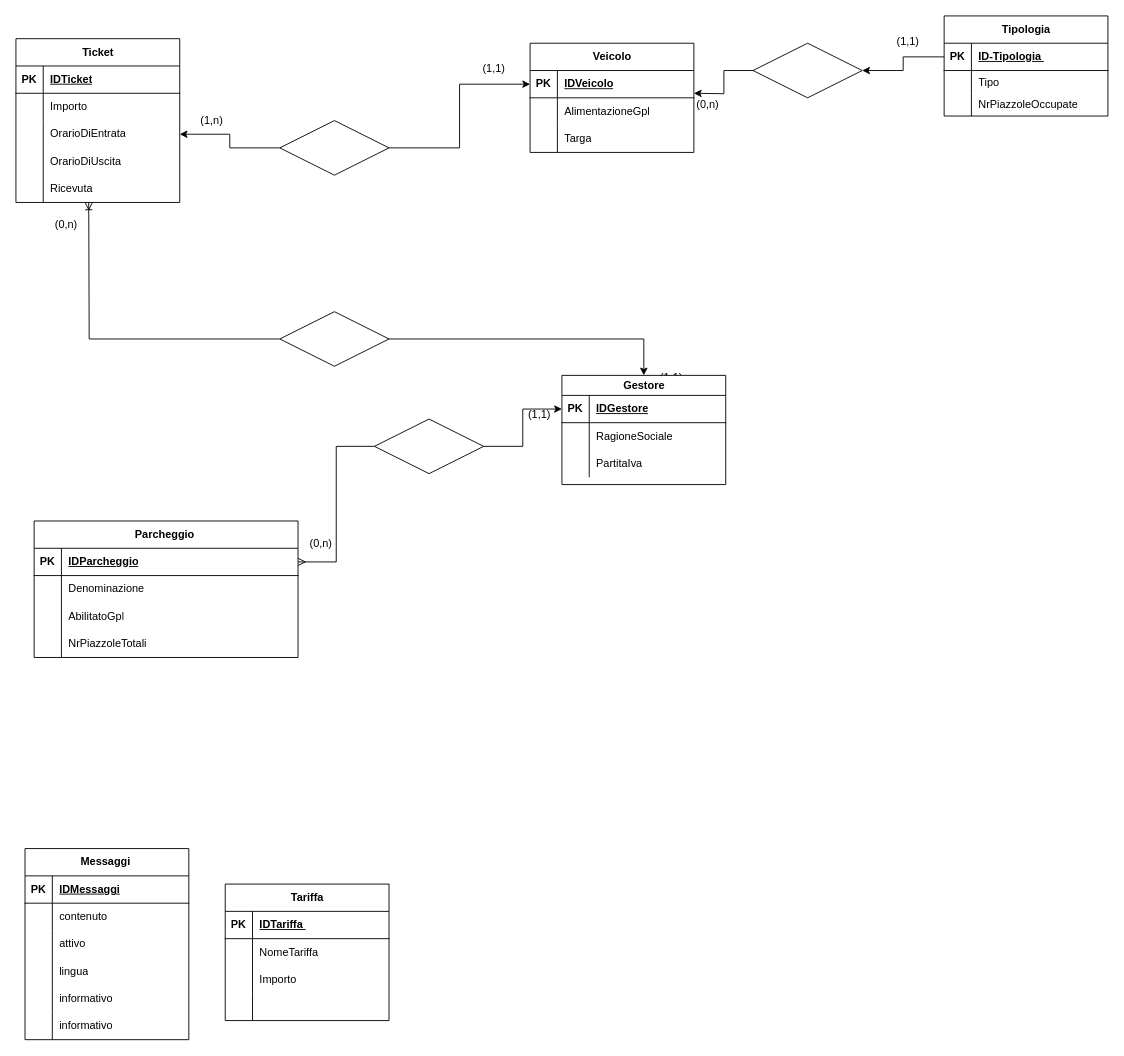
This 1124x1056 diagram has some shape labels left out. The centre of each missing label's shape, as x and y in pixels:
appartiene: (807,70)
emette: (334,338)
possiede: (429,446)
si riferisce: (334,147)
